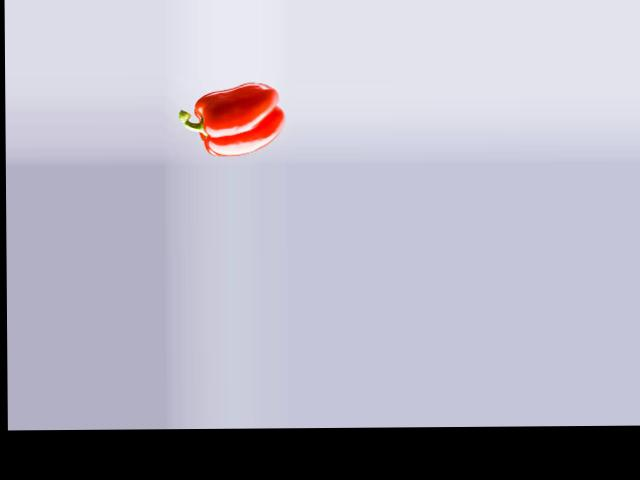bell_pepper: (177, 81, 282, 160)
